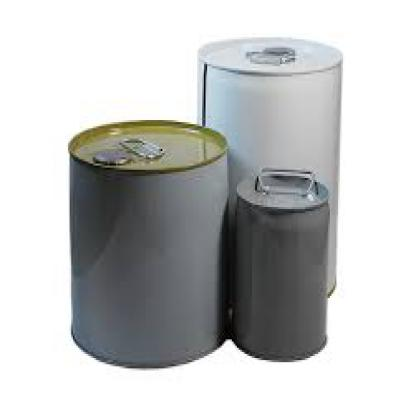METAL: (66, 118, 232, 362), (196, 31, 340, 296), (228, 168, 326, 358)
